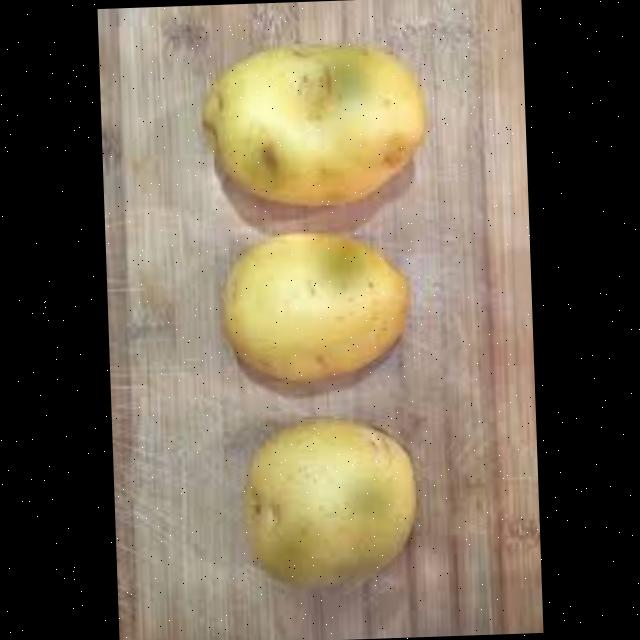Defected potato: (193, 29, 434, 215), (230, 408, 434, 597), (218, 221, 422, 389)
